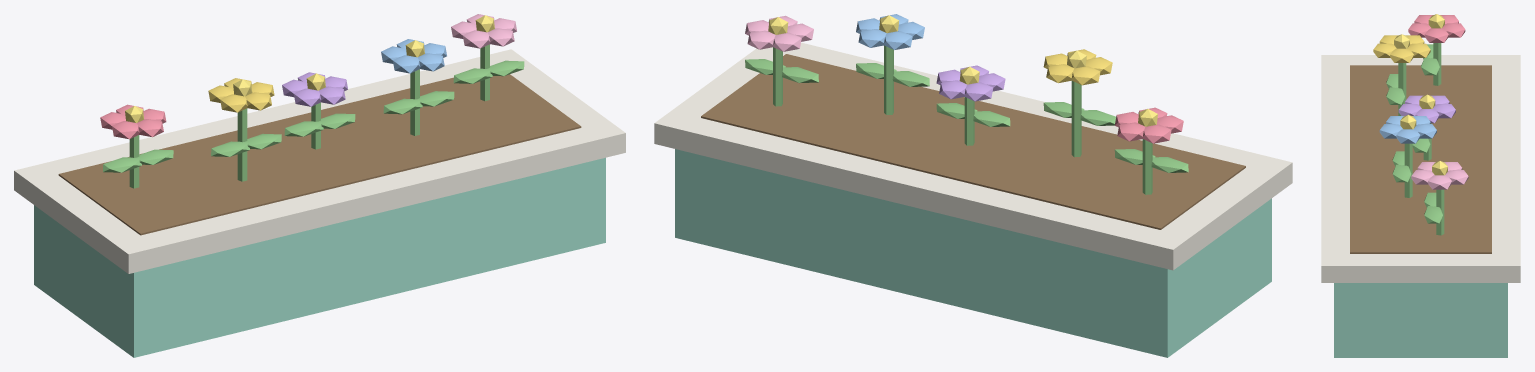
The model's file is flower_bed.glb.
The picture shows the model from 3 angles, left to right: view 1: azimuth 30°, elevation 25°; view 2: azimuth 150°, elevation 25°; view 3: azimuth 270°, elevation 25°; orthographic projection. The views are drawn at different scales.
Visible parts, largest first — view 1: flower_bed; view 2: flower_bed; view 3: flower_bed.
Part boxes in pixels (x1,y1,x2,y2): flower_bed: [14, 14, 625, 357]; flower_bed: [654, 14, 1292, 357]; flower_bed: [1321, 14, 1520, 357].
Size of the model in its own units: 1.58 by 0.65 by 0.63.
